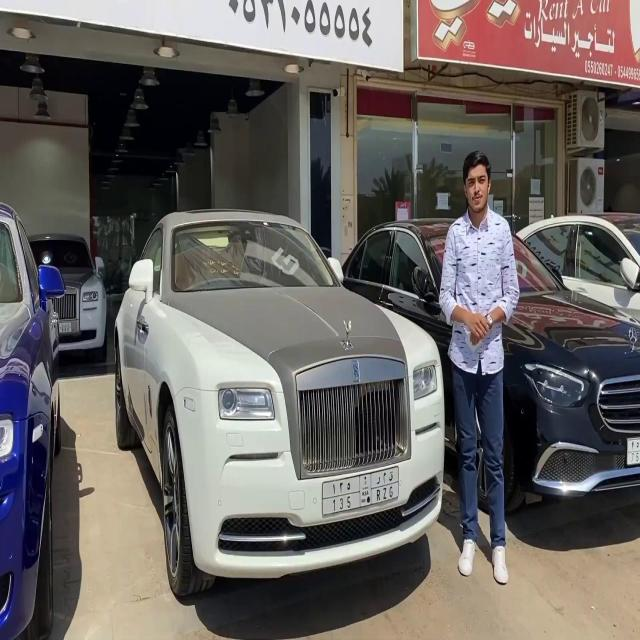license_plate: (321, 463, 402, 519), (624, 426, 640, 467), (54, 314, 76, 333)
